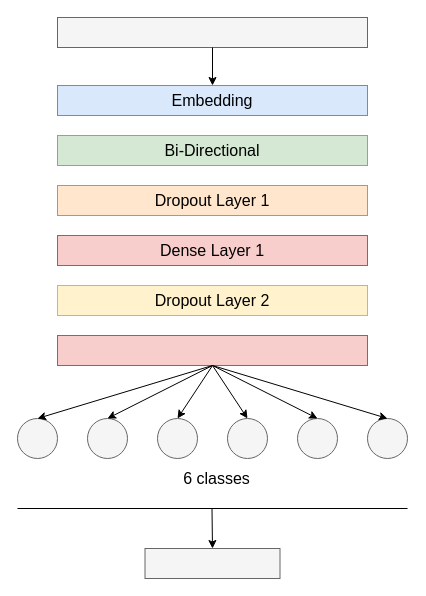
The diagram is 426 pixels wide and 596 high, and some of its shapes have lost their labels. Here are the shapes that lost their labels. From the top down, the box of each, then its label:
(56, 16, 368, 48): Input layer
(56, 334, 368, 366): Dense Layer 2
(144, 548, 280, 578): Bot Percentage
